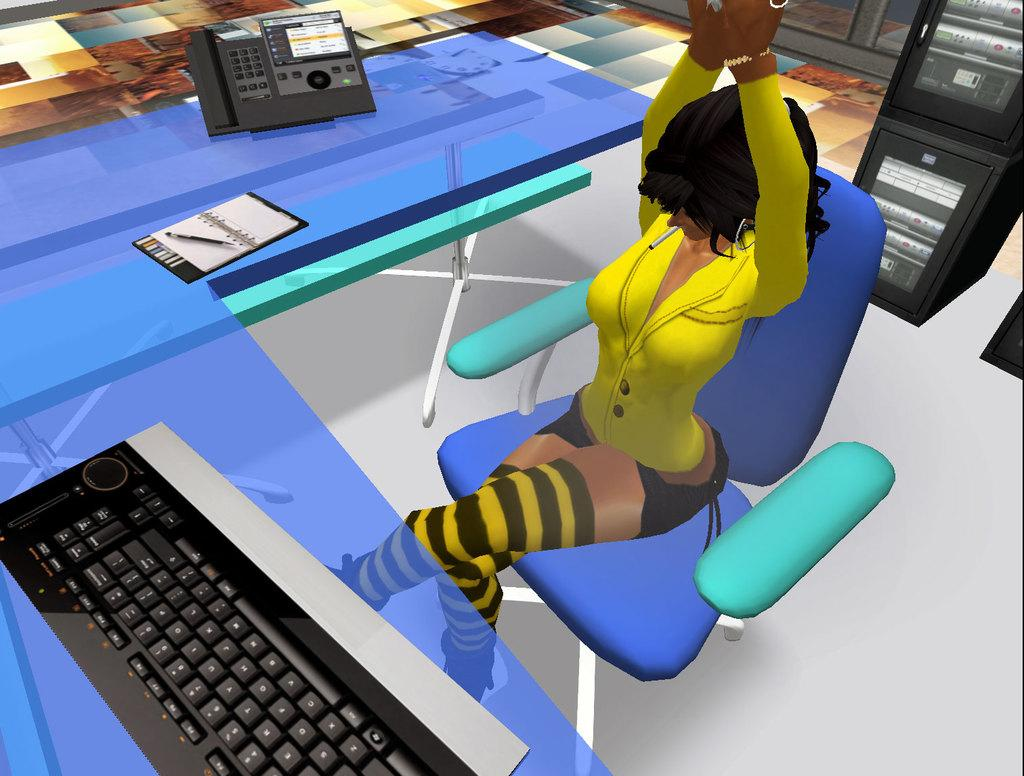Computer-keyboard: (0, 418, 529, 775)
